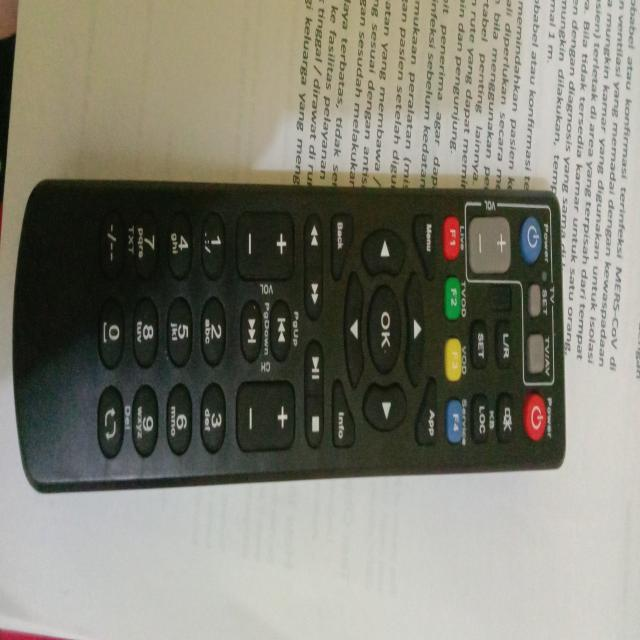remote: (5, 179, 572, 493)
